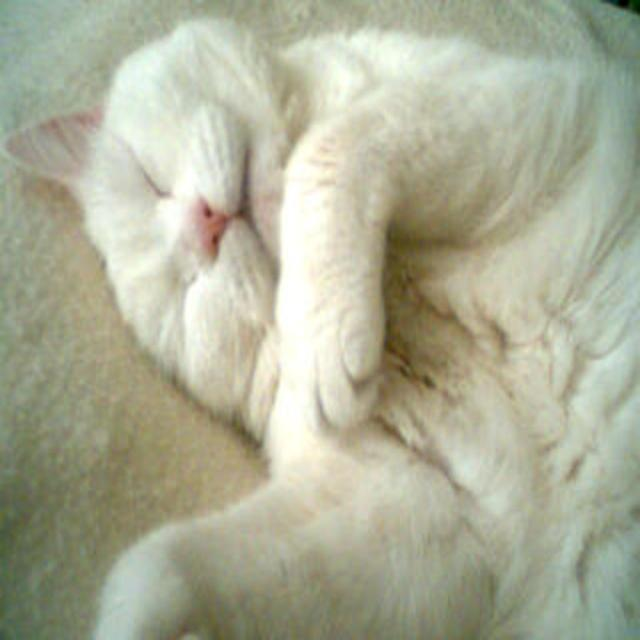Cat: (0, 18, 638, 636)
